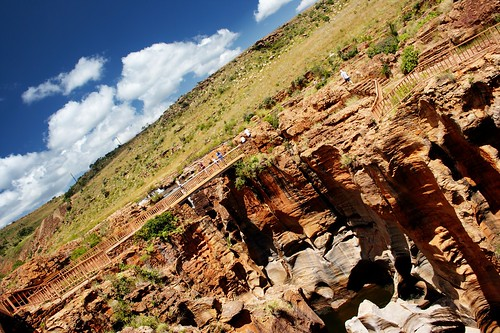grass: (54, 1, 445, 242)
sky: (2, 2, 271, 225)
